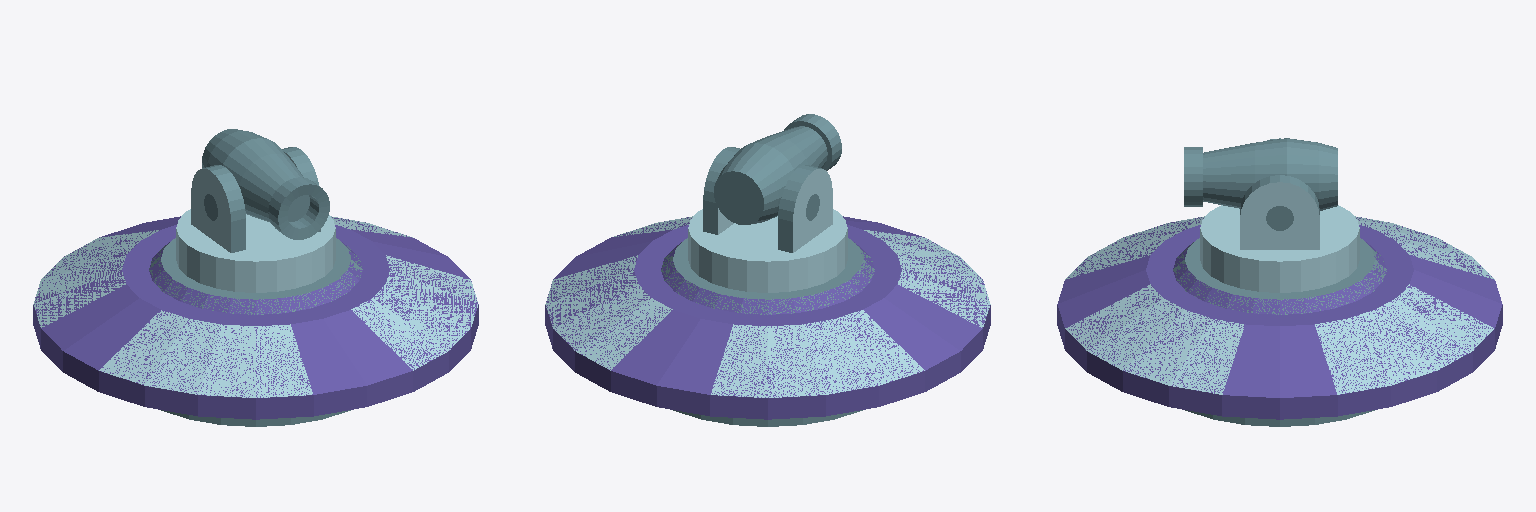
The model's file is enemy_ufoPurpleWeapon.obj.
3 renders of one model, left to right at view 1: azimuth 30°, elevation 25°; view 2: azimuth 150°, elevation 25°; view 3: azimuth 270°, elevation 25°, orthographic.
Visible parts, largest first — view 1: enemy_ufoPurpleWeapon, cannon; view 2: enemy_ufoPurpleWeapon, cannon; view 3: enemy_ufoPurpleWeapon, cannon.
Part boxes in pixels (x1,y1,x2,y2): enemy_ufoPurpleWeapon: (33,147,478,426); cannon: (202,129,329,239); enemy_ufoPurpleWeapon: (545,147,990,426); cannon: (714,114,841,224); enemy_ufoPurpleWeapon: (1057,138,1502,426); cannon: (1184,138,1337,210).
Bounding box in the file's own units: 1 × 0.5672 × 1.